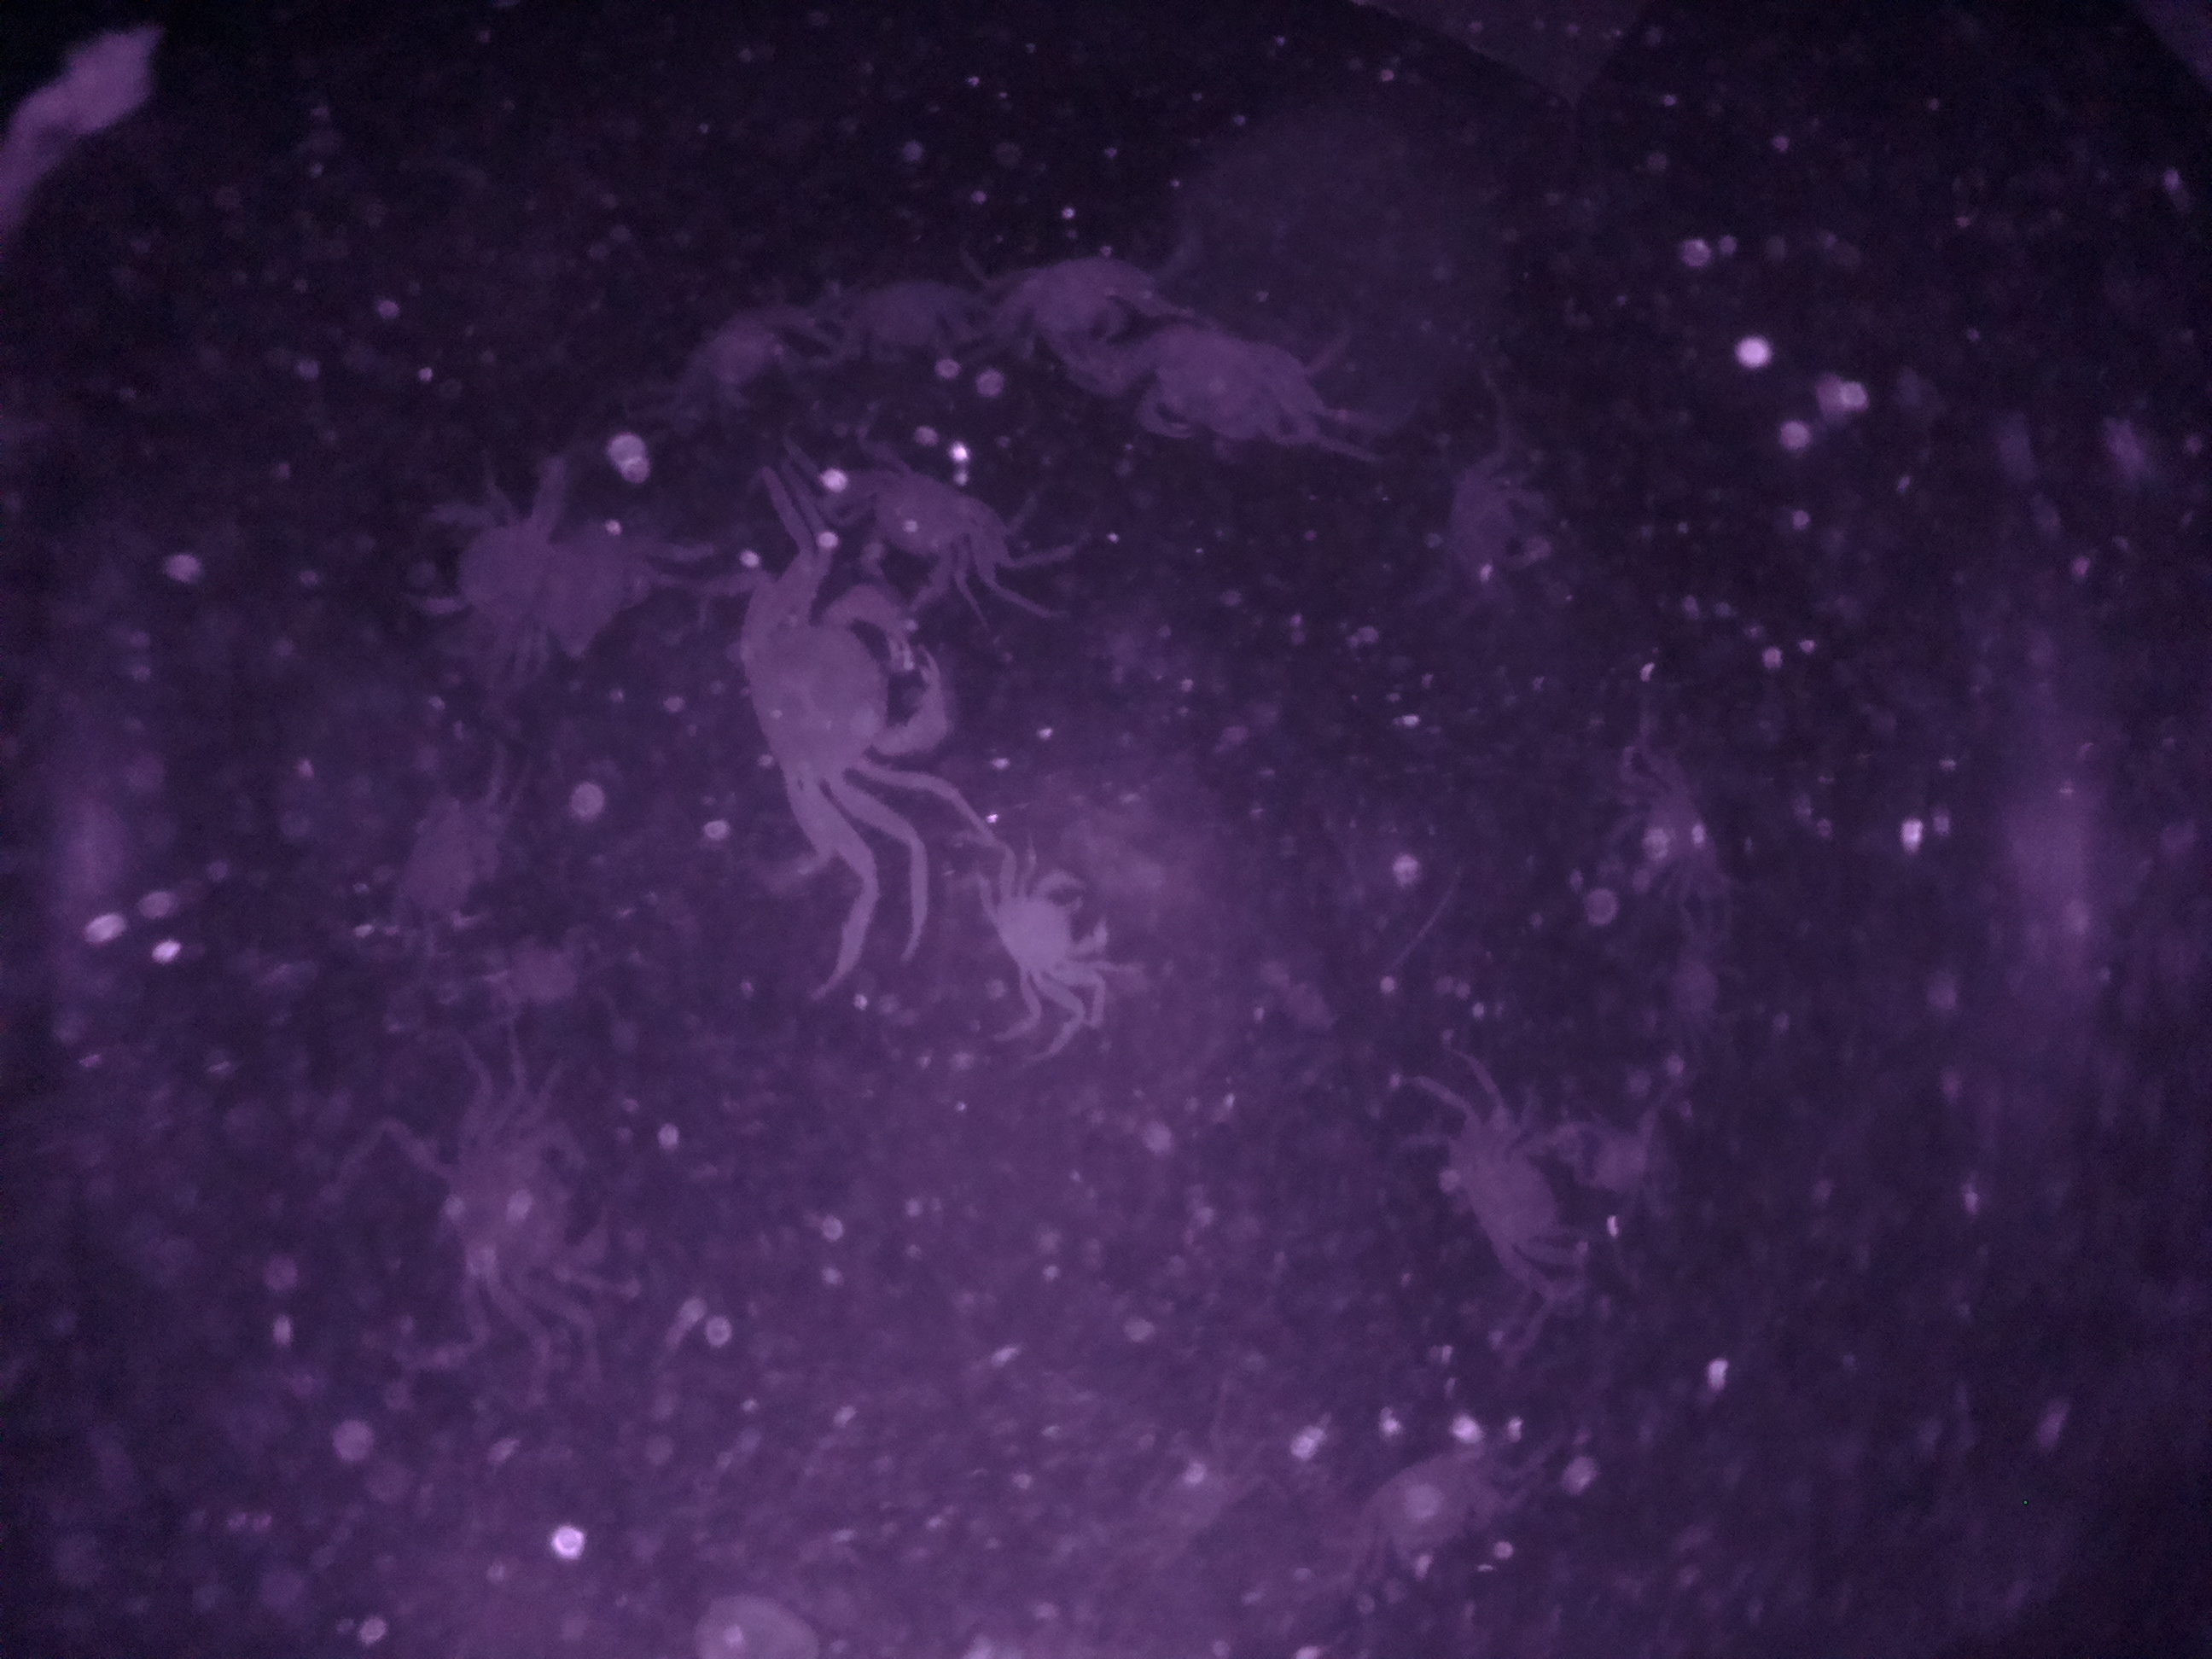Crab: (718, 559, 954, 859), (1101, 305, 1359, 474), (1409, 1105, 1587, 1312), (812, 441, 1042, 591), (954, 852, 1115, 1019)
